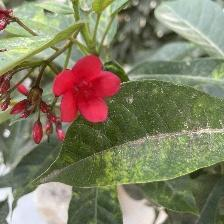jatropha: (53, 55, 123, 126)
